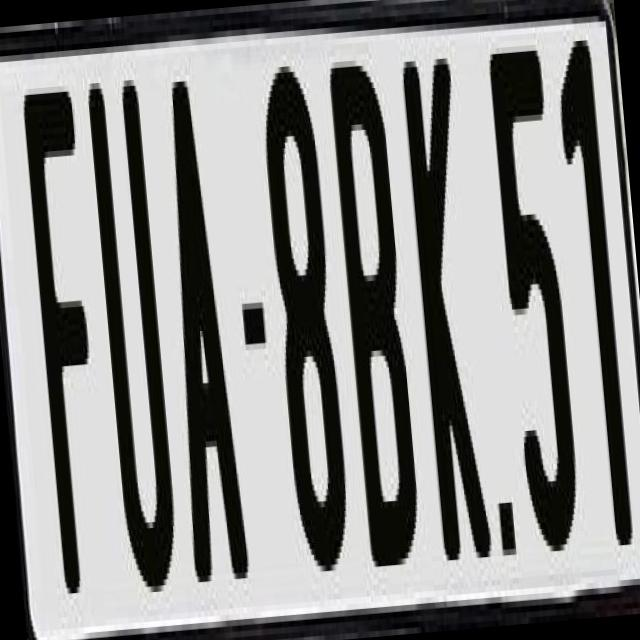1: (551, 22, 632, 529)
5: (485, 43, 588, 570)
8: (256, 52, 356, 561)
A: (148, 67, 253, 588)
B: (328, 52, 428, 556)
F: (20, 84, 115, 594)
K: (397, 39, 498, 566)
U: (84, 68, 182, 582)
